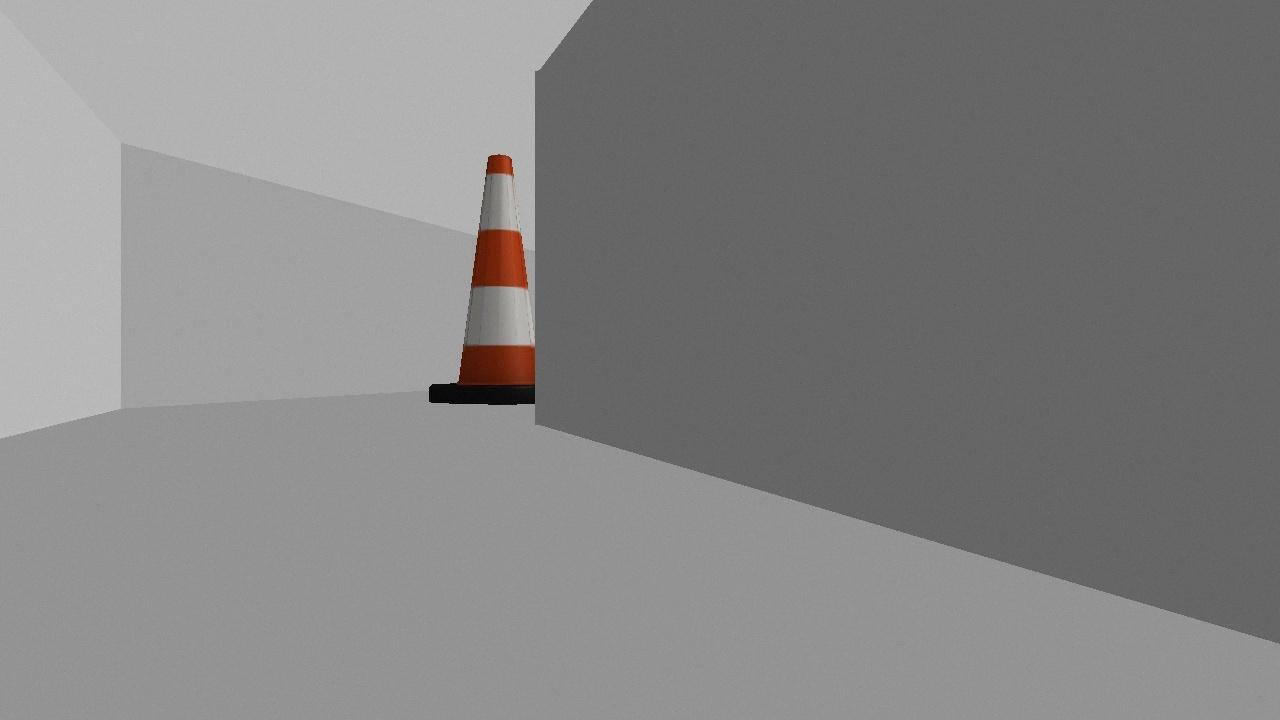cone_barrel: (426, 146, 571, 404)
